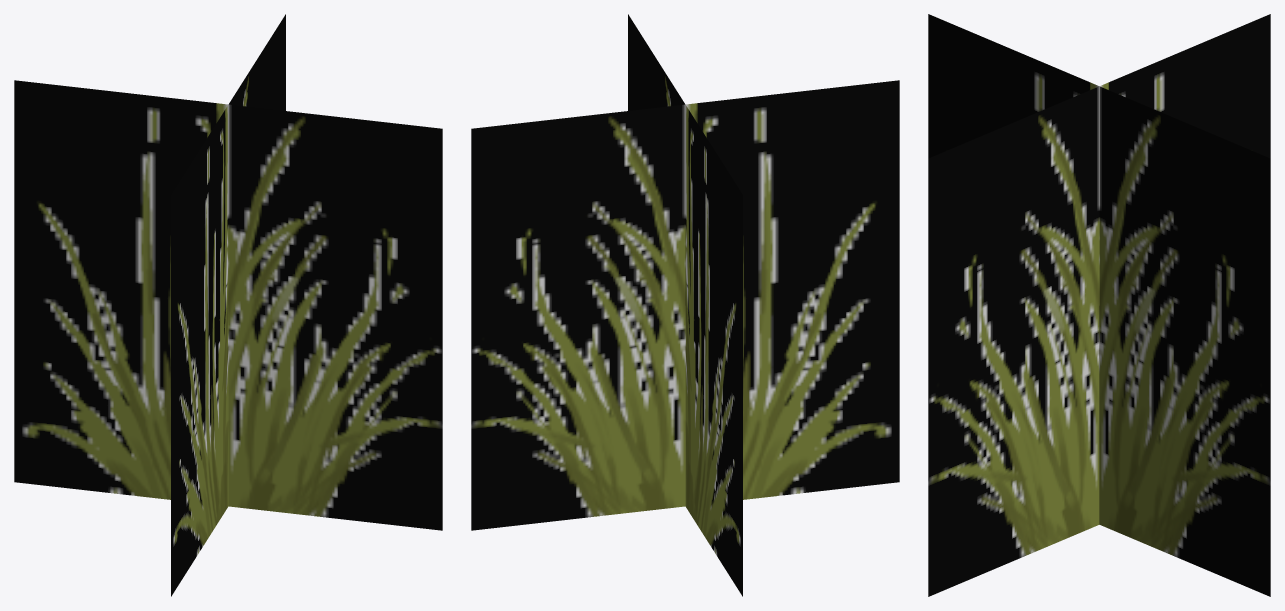
The model's file is grass02.fbx.
3 renders of one model, left to right at view 1: azimuth 30°, elevation 25°; view 2: azimuth 150°, elevation 25°; view 3: azimuth 270°, elevation 25°, orthographic. The views are drawn at different scales.
Parts seen in each view (by area): view 1: Grass02.001, Grass02; view 2: Grass02, Grass02.001; view 3: Grass02, Grass02.001.
Boxes of the visible parts, left/top/right/bottom form: Grass02.001: left=14, top=80, right=442, bottom=530; Grass02: left=171, top=14, right=285, bottom=596; Grass02: left=471, top=80, right=899, bottom=530; Grass02.001: left=628, top=14, right=742, bottom=596; Grass02: left=928, top=14, right=1270, bottom=596; Grass02.001: left=928, top=14, right=1270, bottom=596.
Size of the model in its own units: 55.95 by 79.12 by 55.95.
